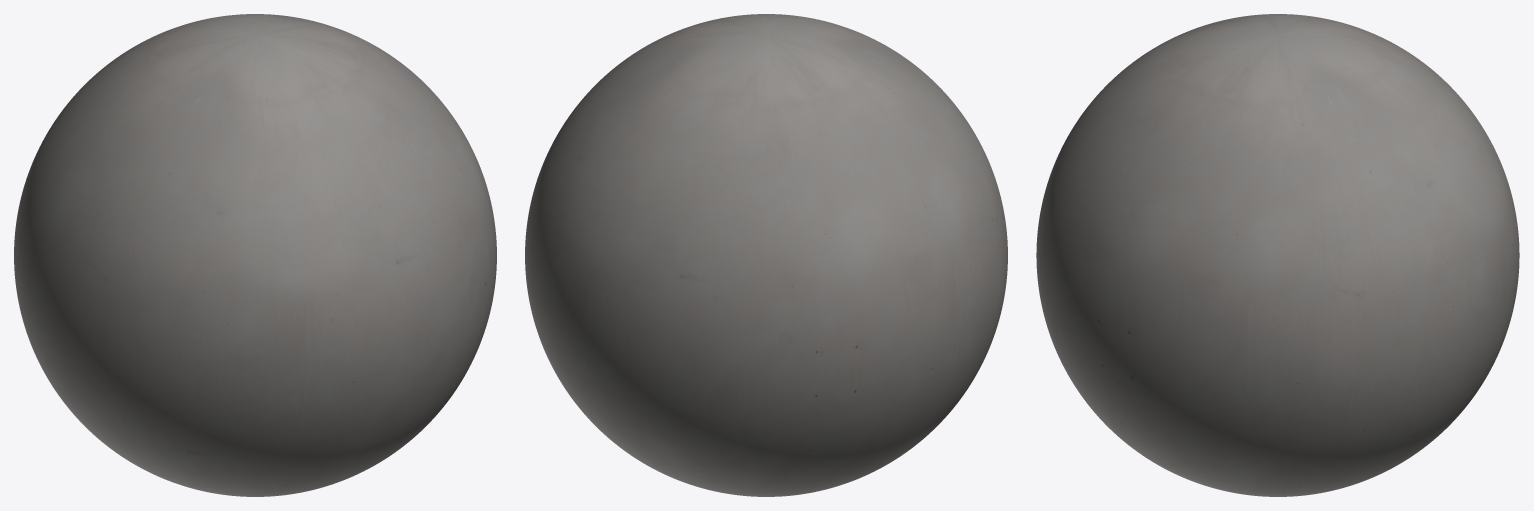
File: plastered_wall_04_2k.gltf
3 views of the same model, side by side, from view 1: azimuth 30°, elevation 25°; view 2: azimuth 150°, elevation 25°; view 3: azimuth 270°, elevation 25° (orthographic).
Visible parts, largest first — view 1: sphere_gltf; view 2: sphere_gltf; view 3: sphere_gltf.
Part boxes in pixels (left/top/right/bottom): sphere_gltf: left=14, top=14, right=496, bottom=496; sphere_gltf: left=525, top=14, right=1007, bottom=496; sphere_gltf: left=1036, top=14, right=1519, bottom=496.
Bounding box in the file's own units: 3.2 × 3.2 × 3.2.
1 material, 1 textured.
